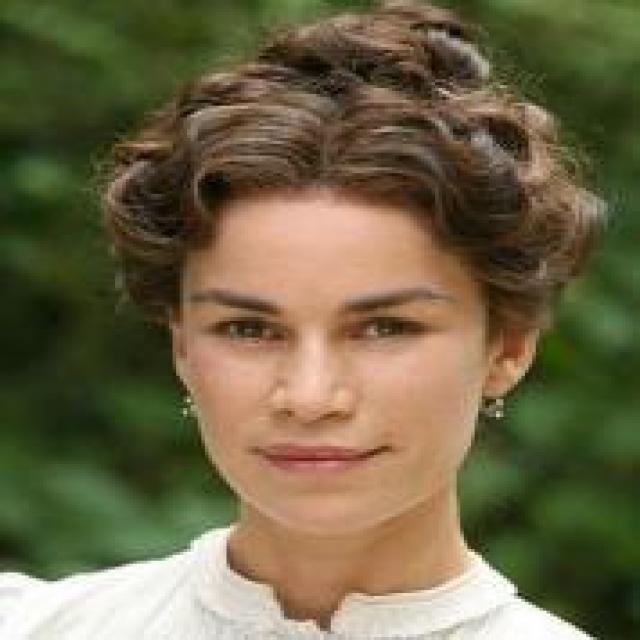nomask: (86, 94, 564, 564)
